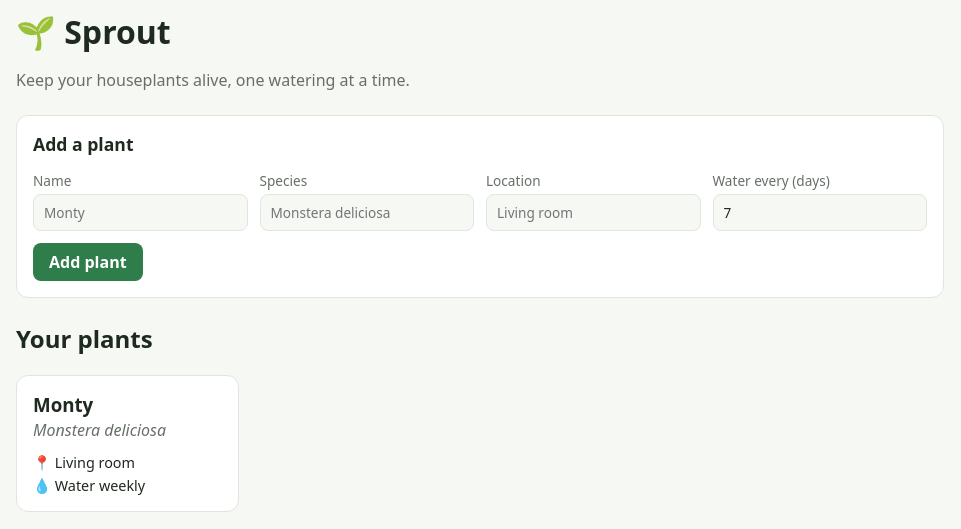
it: App › adds a newly created plant to the top of the list
Expected: the heading "Monty" is shown, left=33, top=392, right=93, bottom=416
Type "Fern" into the field labelled "Name" at (140, 212), box left=33, top=194, right=248, bottom=231
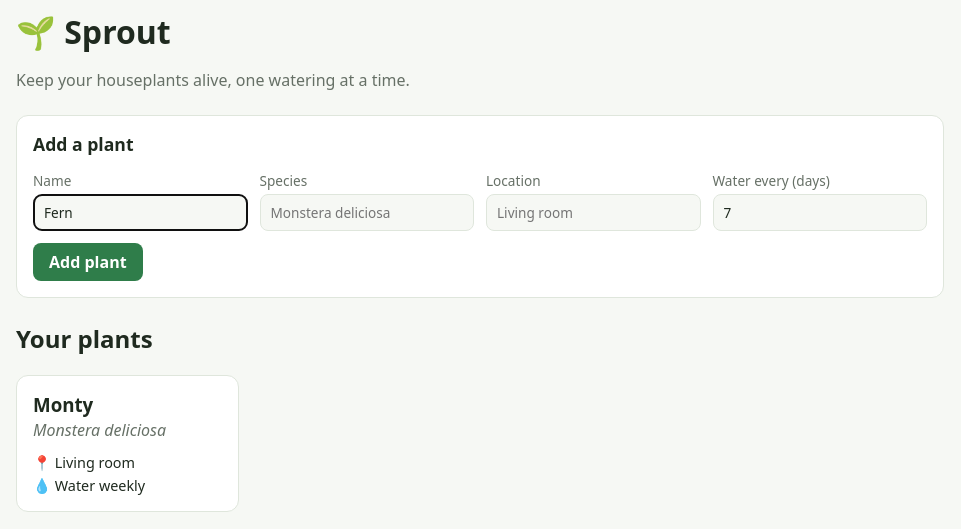
Click the button "Add plant" at (88, 262), box left=33, top=243, right=143, bottom=281
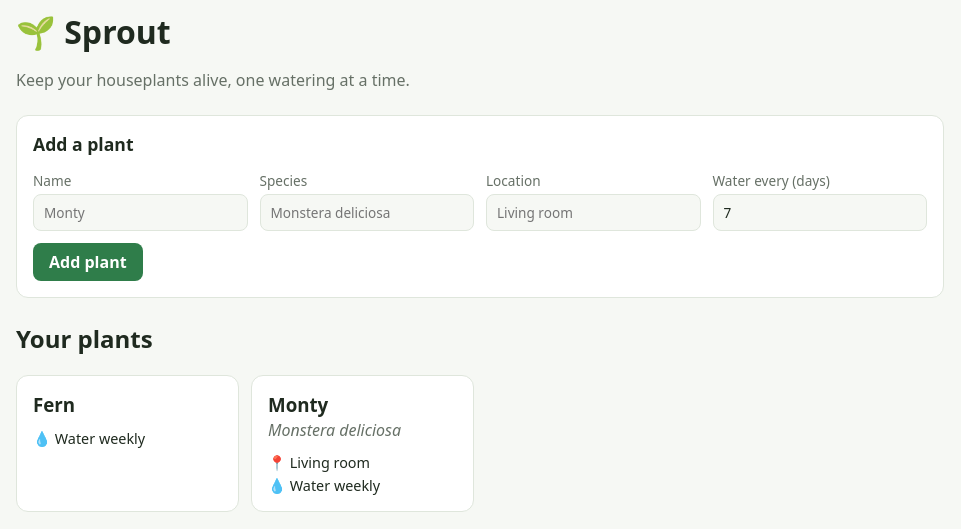
Expected: the headings read "Fern", "Monty", in this order, left=33, top=392, right=75, bottom=416; left=268, top=392, right=328, bottom=416
